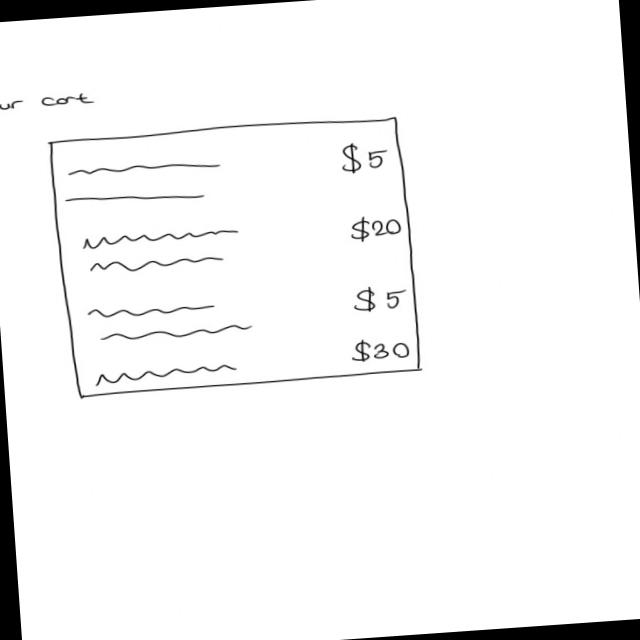container: (47, 114, 425, 401)
label: (1, 88, 95, 114), (350, 335, 411, 366), (352, 284, 411, 316), (340, 140, 391, 175), (350, 213, 403, 244)
text: (93, 362, 239, 390), (66, 158, 227, 181), (65, 188, 207, 209)
textbox: (80, 225, 248, 279), (80, 298, 257, 346)
